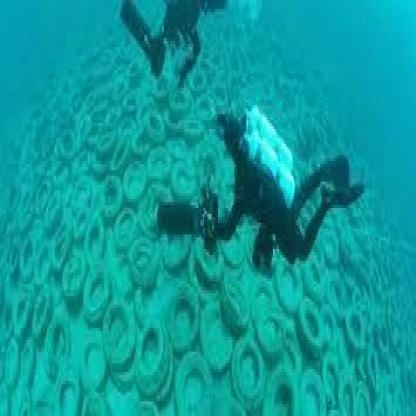tire: (6, 65, 160, 413), (164, 258, 416, 416)
